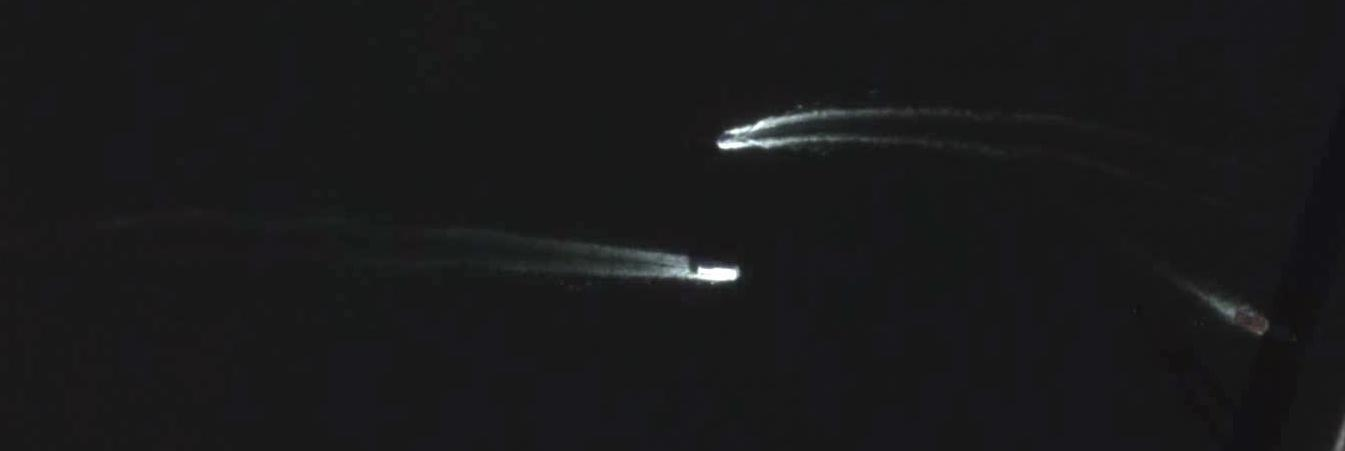person: (1232, 308, 1269, 338), (697, 266, 738, 283), (717, 133, 737, 143)
